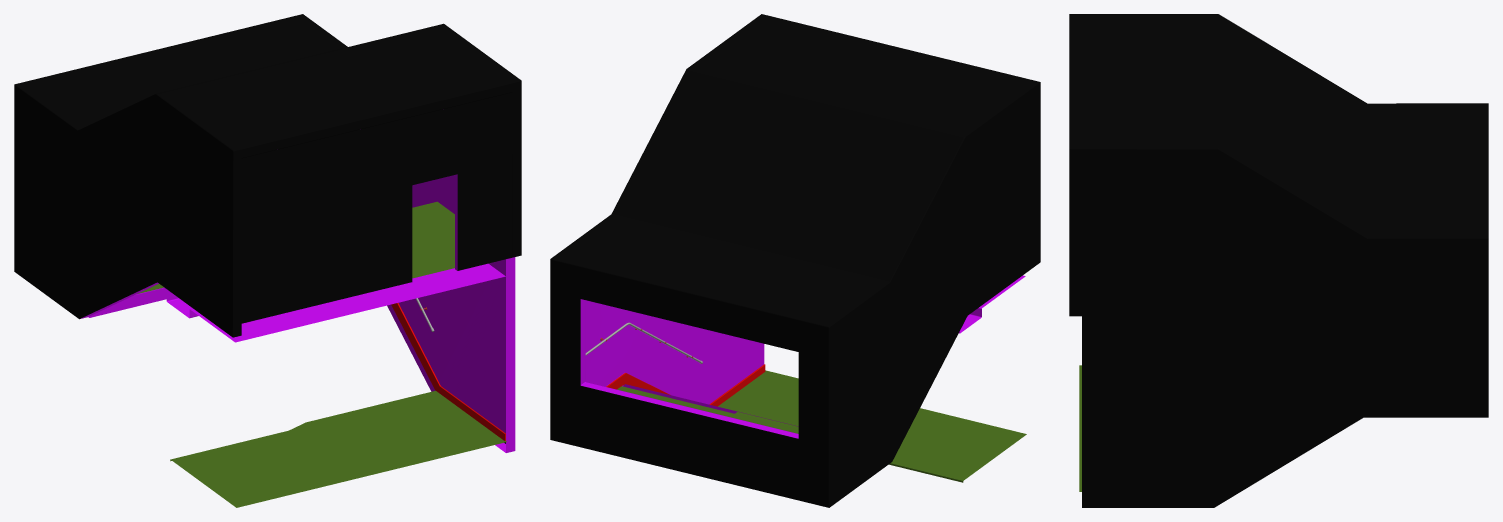
Rendered from Floor_stairs_top_Snaps014.fbx.
3 renders of one model, left to right at view 1: azimuth 30°, elevation 25°; view 2: azimuth 150°, elevation 25°; view 3: azimuth 270°, elevation 25°, orthographic. The views are drawn at different scales.
Visible parts, largest first — view 1: Floor_stairs_top_LOD00; view 2: Floor_stairs_top_LOD00; view 3: Floor_stairs_top_LOD00.
Part boxes in pixels (x1,y1,x2,y2): Floor_stairs_top_LOD00: [14, 14, 521, 507]; Floor_stairs_top_LOD00: [550, 14, 1040, 507]; Floor_stairs_top_LOD00: [1069, 14, 1488, 507].
Size of what is drawn, in the model's own units: 640 by 794 by 840.
